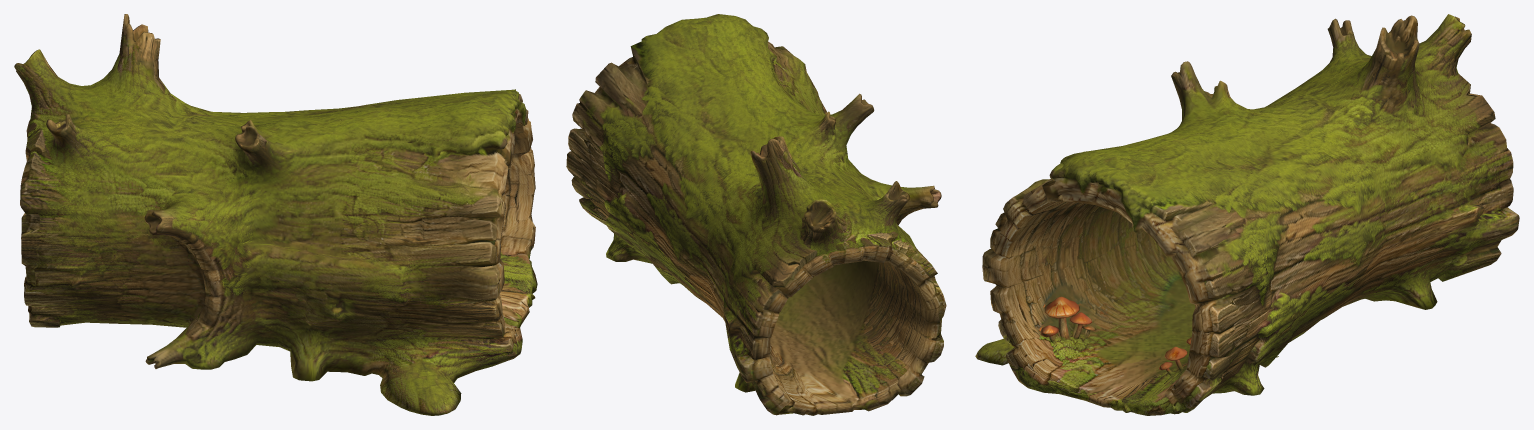
File: SM_Env_SherwoodHollowLogTunnel.fbx
3 renders of one model, left to right at view 1: azimuth 30°, elevation 25°; view 2: azimuth 150°, elevation 25°; view 3: azimuth 270°, elevation 25°, orthographic. The views are drawn at different scales.
Visible parts, largest first — view 1: SM_Env_SherwoodHollowLogTunnel; view 2: SM_Env_SherwoodHollowLogTunnel; view 3: SM_Env_SherwoodHollowLogTunnel.
Boxes of the visible parts, x1,y1,x2,y2 form: SM_Env_SherwoodHollowLogTunnel: (14, 14, 537, 415); SM_Env_SherwoodHollowLogTunnel: (566, 14, 946, 415); SM_Env_SherwoodHollowLogTunnel: (975, 14, 1519, 415).
Bounding box in the file's own units: 62.81 × 62.09 × 36.
1 material, 1 textured.
